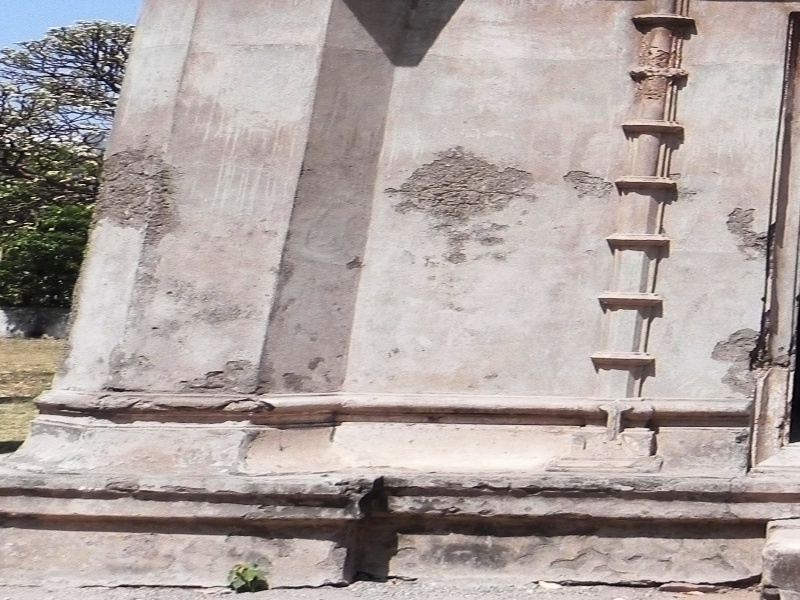Spalling: (393, 144, 538, 262), (88, 149, 181, 240), (181, 356, 274, 416), (725, 205, 778, 262), (714, 325, 774, 374), (564, 173, 609, 201)
